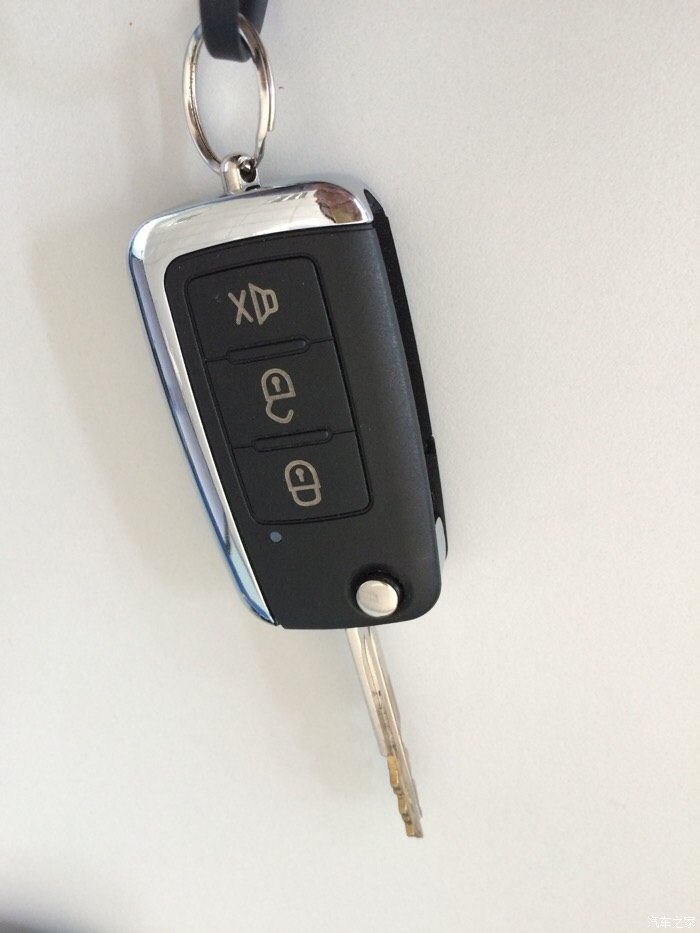key: (120, 169, 463, 853)
